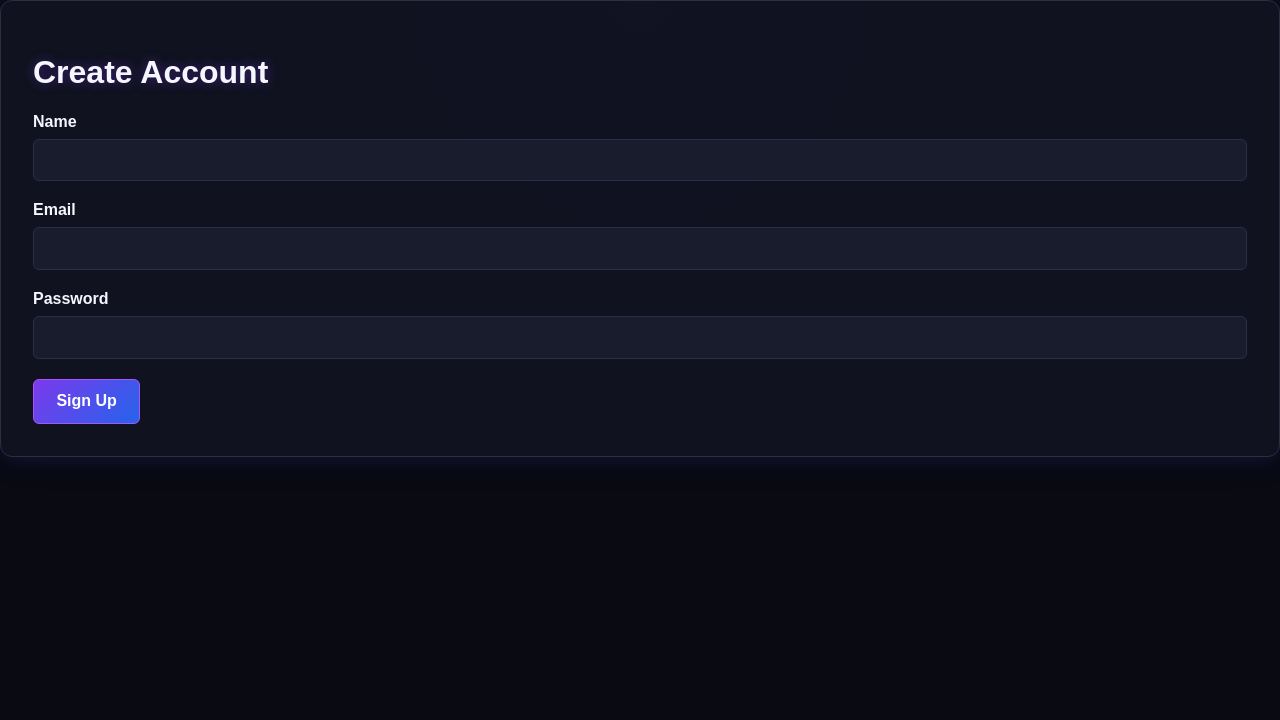
Test: SignupForm › shows errors when submitted empty
Step 1. Click the button "Sign Up" → (87, 402), box top-left (33, 379), bottom-right (140, 424)
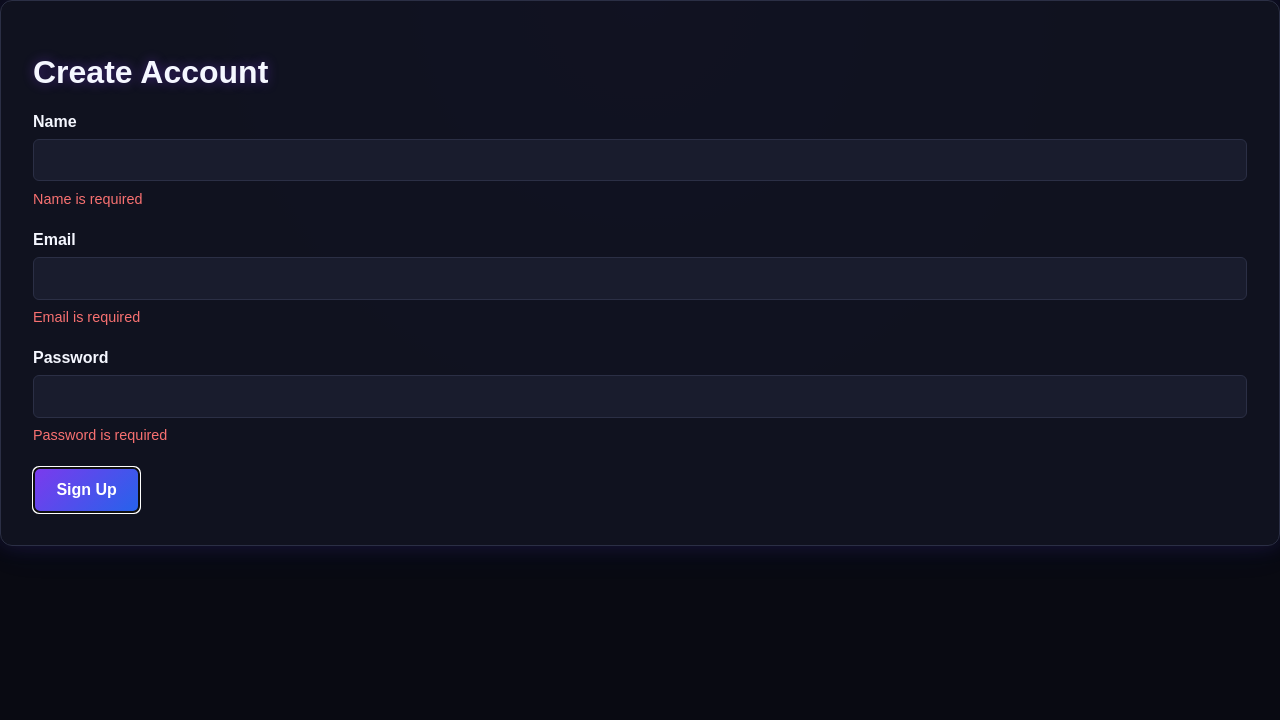
Now the text "Name is required" is shown, box top-left (33, 191), bottom-right (143, 207)
Now the text "Email is required" is shown, box top-left (33, 309), bottom-right (140, 325)
Now the text "Password is required" is shown, box top-left (33, 427), bottom-right (167, 443)
